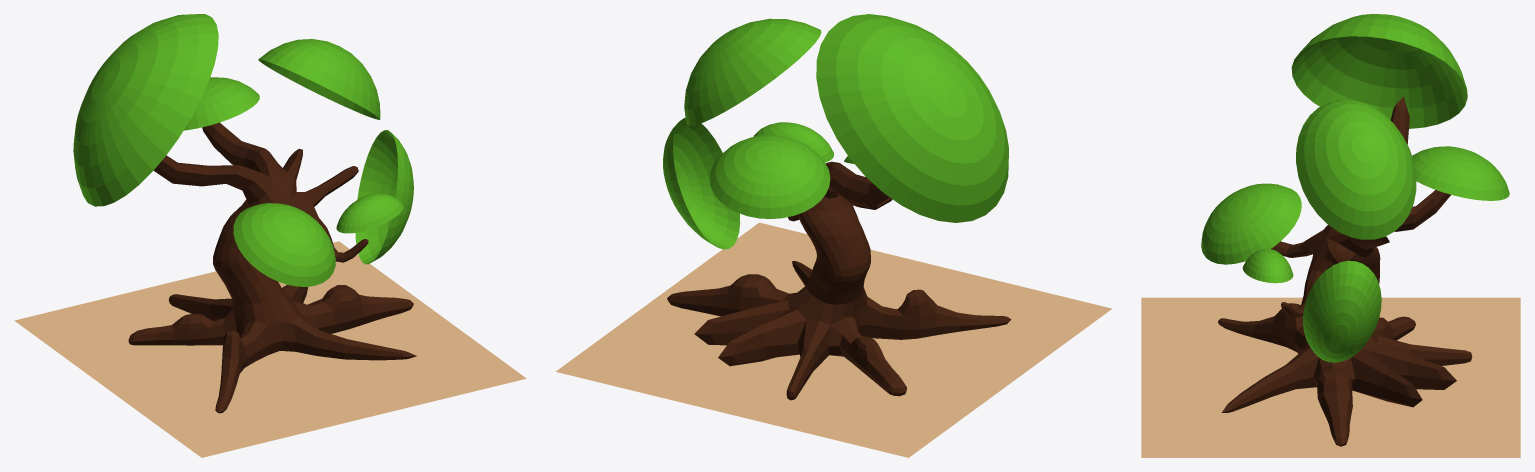
File: Hub_Tree.glb
3 views of the same model, side by side, from view 1: azimuth 30°, elevation 25°; view 2: azimuth 150°, elevation 25°; view 3: azimuth 270°, elevation 25° (orthographic). The views are drawn at different scales.
Parts seen in each view (by area): view 1: Ground_col, Trunk_col, Sphere, Sphere.005, Sphere.002, Sphere.003, Sphere.001, Sphere.004; view 2: Ground_col, Sphere, Trunk_col, Sphere.002, Sphere.001, Sphere.003, Sphere.004; view 3: Ground_col, Trunk_col, Sphere, Sphere.002, Sphere.003, Sphere.005, Sphere.001, Sphere.004.
Part boxes in pixels (x1,y1,x2,y2): Ground_col: (14,241,526,457); Trunk_col: (128,122,416,413); Sphere: (73,14,218,206); Sphere.005: (233,203,335,286); Sphere.002: (258,39,380,119); Sphere.003: (355,130,413,264); Sphere.001: (184,77,259,130); Sphere.004: (336,193,403,233); Ground_col: (555,222,1111,457); Sphere: (816,14,1008,222); Trunk_col: (667,161,1011,400); Sphere.002: (684,18,821,125); Sphere.001: (709,134,830,218); Sphere.003: (663,118,740,249); Sphere.004: (753,122,833,162); Ground_col: (1141,297,1520,457); Trunk_col: (1218,96,1472,446); Sphere: (1291,14,1467,128); Sphere.002: (1296,99,1416,239); Sphere.003: (1303,260,1381,362); Sphere.005: (1201,183,1301,264); Sphere.001: (1412,146,1509,200); Sphere.004: (1242,248,1293,283).
Bounding box in the file's own units: 8.13 × 7.6 × 8.
